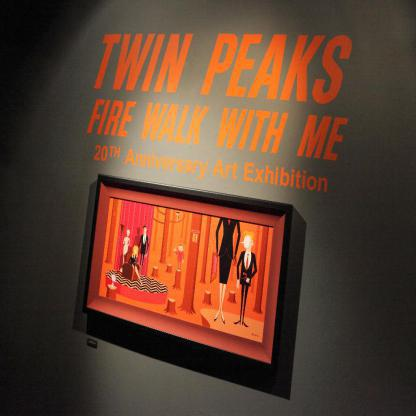Picture-frame: (81, 174, 293, 375)
